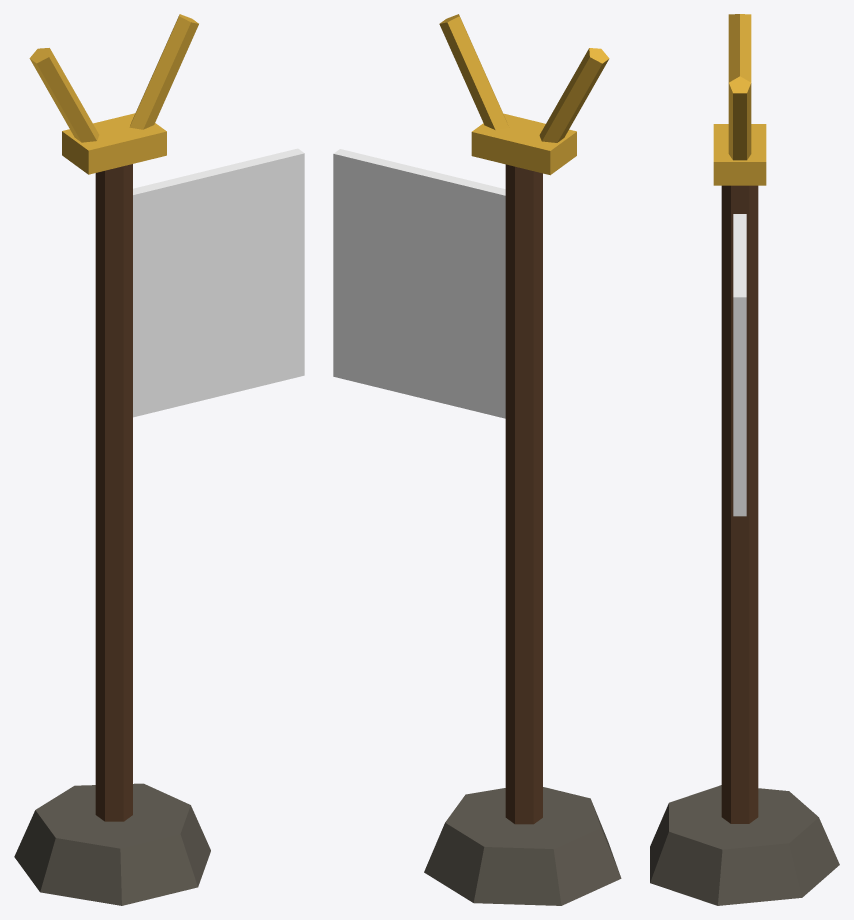
Rendered from standard.glb.
3 views of the same model, side by side, from view 1: azimuth 30°, elevation 25°; view 2: azimuth 150°, elevation 25°; view 3: azimuth 270°, elevation 25° (orthographic).
Visible parts, largest first — view 1: part.002, part.001, part, part.003, part.005, part.004; view 2: part.002, part.001, part, part.003, part.005, part.004; view 3: part.001, part, part.002, part.003, part.005, part.004.
Boxes of the visible parts, bbox=[...] form: part.002: bbox=[133, 148, 304, 417]; part.001: bbox=[95, 164, 132, 821]; part: bbox=[14, 783, 210, 905]; part.003: bbox=[62, 113, 166, 174]; part.005: bbox=[129, 14, 198, 129]; part.004: bbox=[29, 48, 99, 142]; part.002: bbox=[333, 149, 505, 418]; part.001: bbox=[505, 164, 542, 824]; part: bbox=[424, 787, 621, 905]; part.003: bbox=[471, 113, 576, 175]; part.005: bbox=[439, 14, 509, 129]; part.004: bbox=[539, 48, 609, 142]; part.001: bbox=[721, 185, 758, 823]; part: bbox=[650, 785, 839, 905]; part.002: bbox=[733, 214, 746, 516]; part.003: bbox=[713, 124, 766, 185]; part.005: bbox=[728, 76, 751, 160]; part.004: bbox=[728, 14, 751, 82].
Bounding box in the file's own units: 1.18 × 3.44 × 0.7224.
